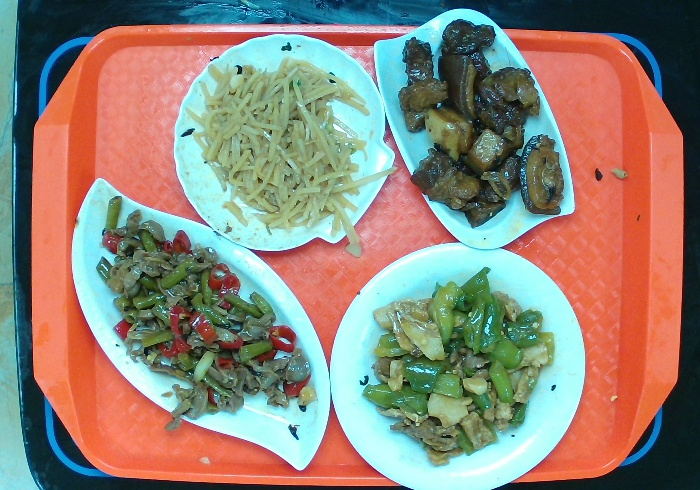RJxy-Bei_Ke_Wan: (163, 28, 400, 257)
RJxy-Jian_Jiao_Fang_Die: (365, 6, 590, 256)
RJxy-Jian_Jiao_Pan: (63, 168, 338, 475)
RJxy-Yuan_Pan: (318, 234, 589, 490)
